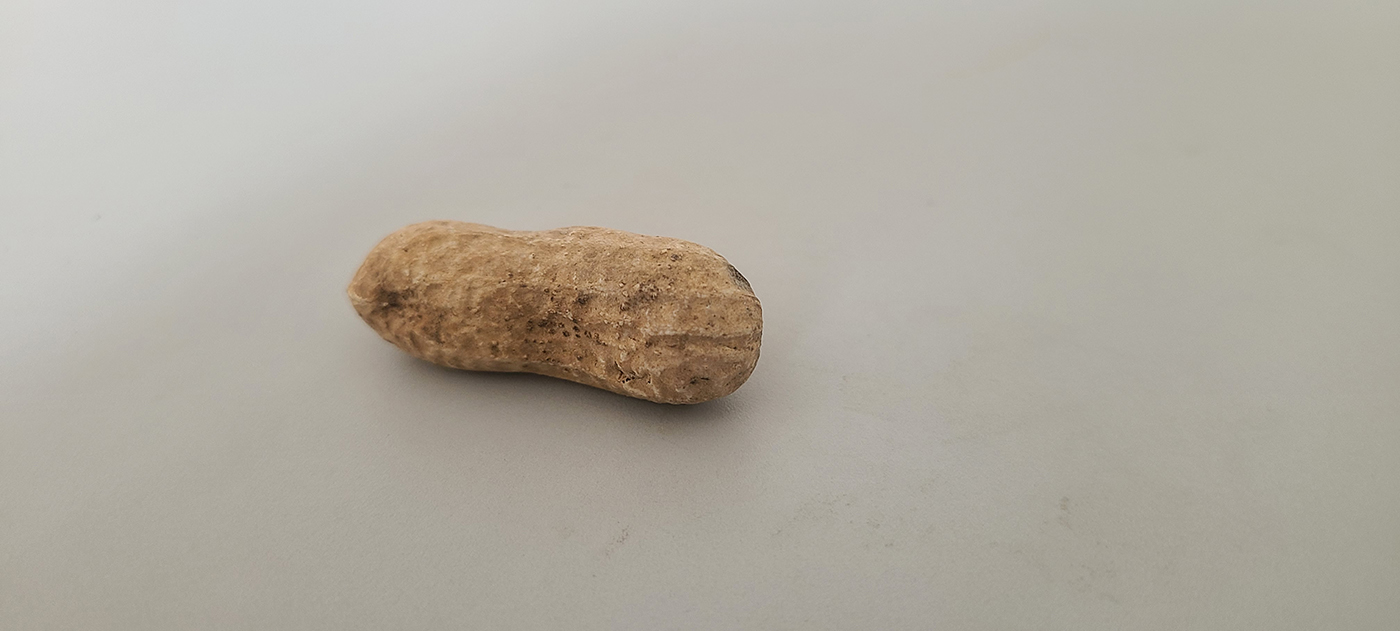h: (347, 216, 763, 412)
